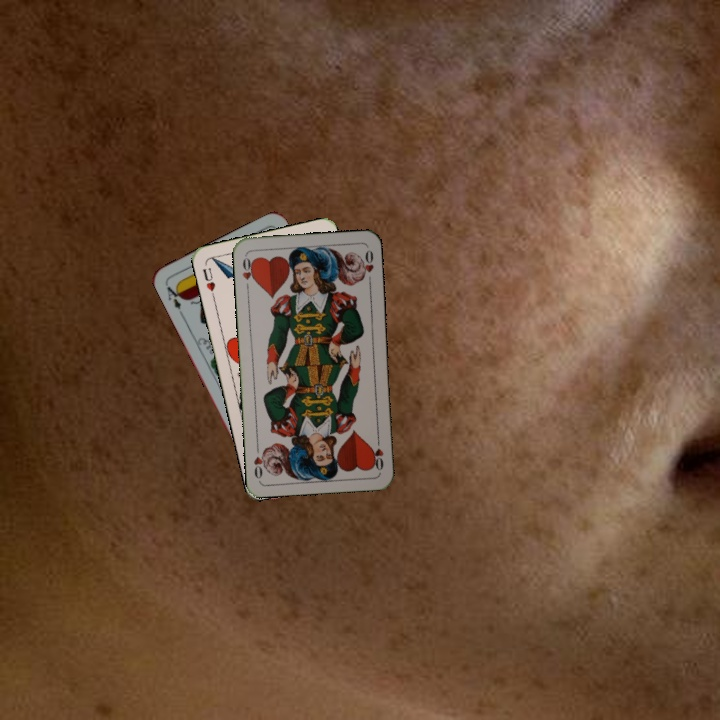EA: (162, 280, 186, 312)
HO: (239, 252, 257, 293), (369, 433, 386, 473)
HU: (199, 264, 218, 301)
